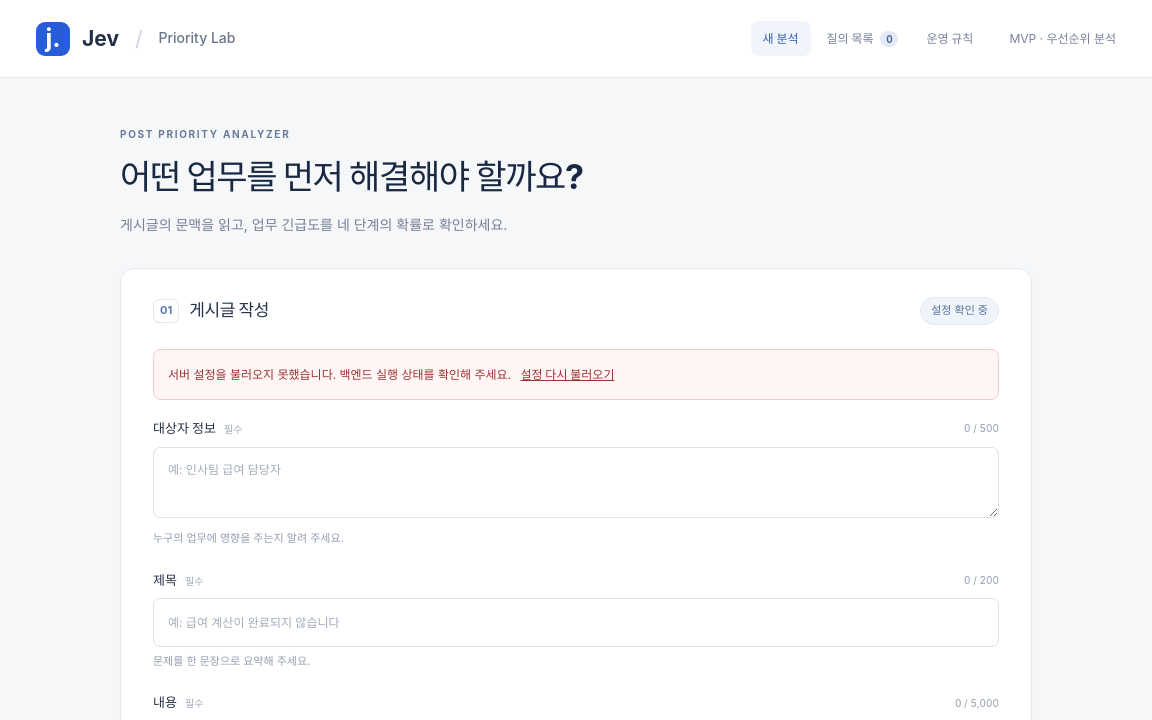
it: can recover configuration failure
Expected: the message "서버 설정을 불러오지 못했습니다. 백엔드 실행 상태를 확인해 주세요. 설정 다시 불러오기" is shown, [153,349,999,400]
What coordinates should you click on to do the following:
click the button "설정 다시 불러오기"
I would click on:
 (567, 374)
Its box is [514,364,620,385].
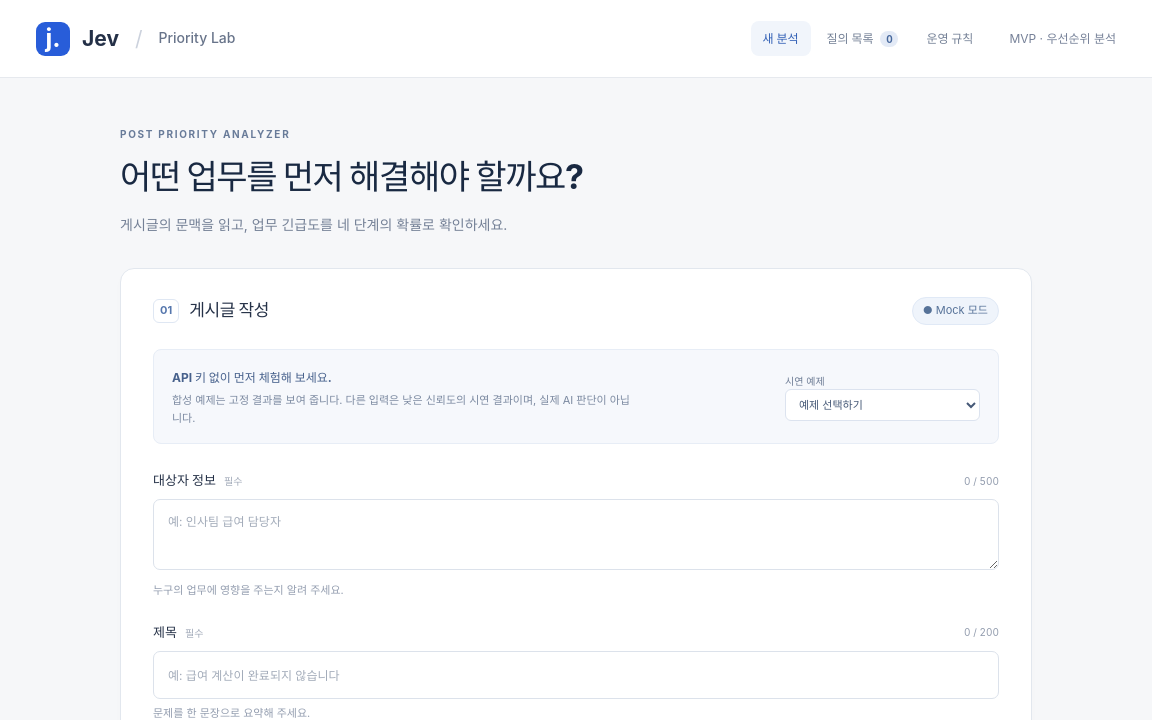
Result: the text "● Mock 모드" is shown at [912,297,999,325]
